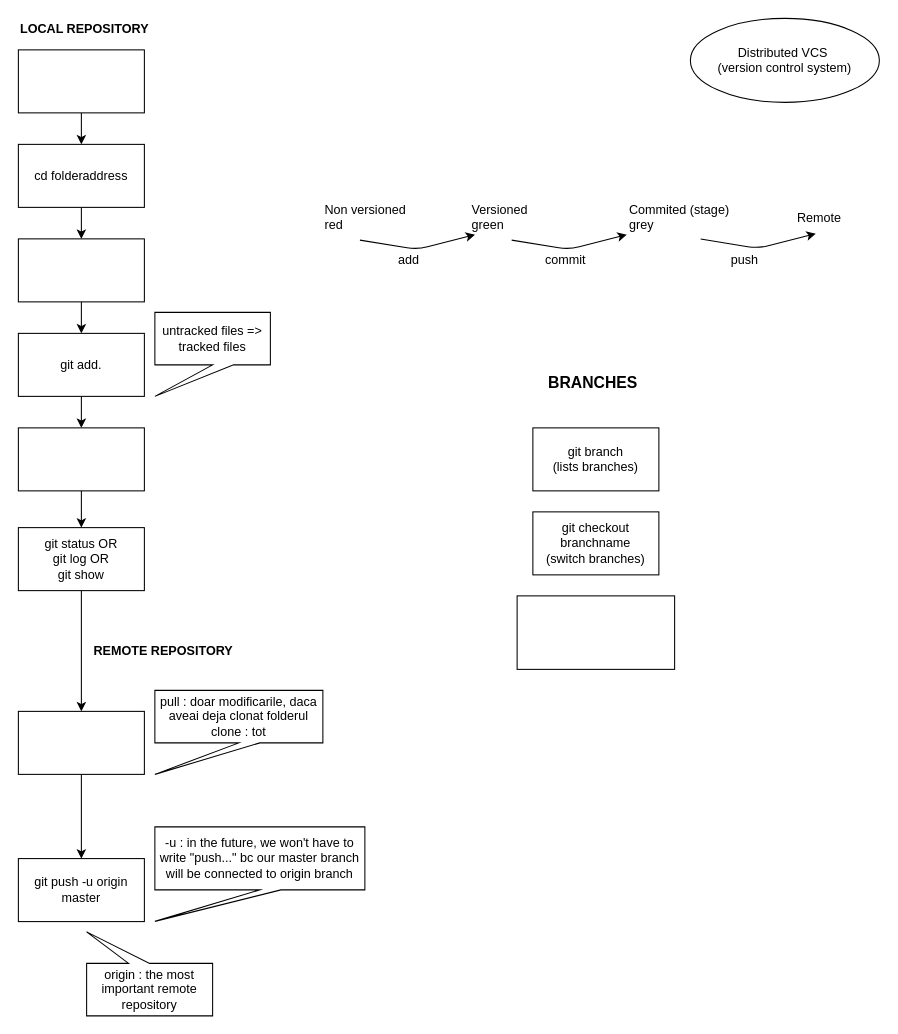
This 898x1034 diagram has some shape labels left out. Here are the shapes that lost their labels. From the top down, the box of each, then its label:
(17, 49, 144, 113): create a new folder
(17, 238, 144, 302): git init OR git clone <url>
(17, 427, 144, 491): git commit -m "message"
(516, 595, 675, 669): git merge branchname (integrates changes from one branch to another)
(17, 710, 144, 774): git pull (=fetch+merge)
